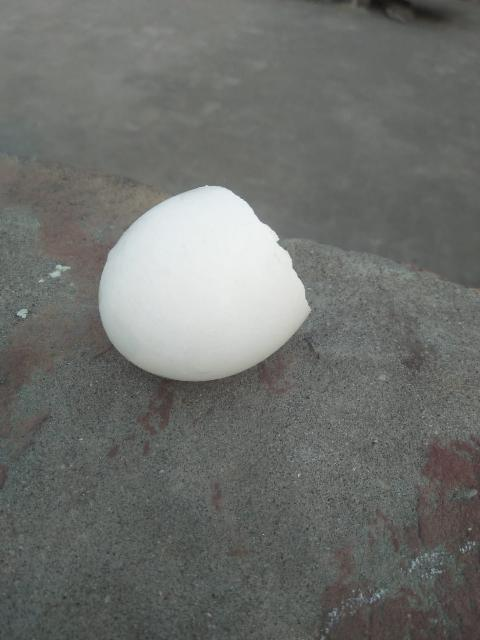Roto: (97, 184, 312, 382)
